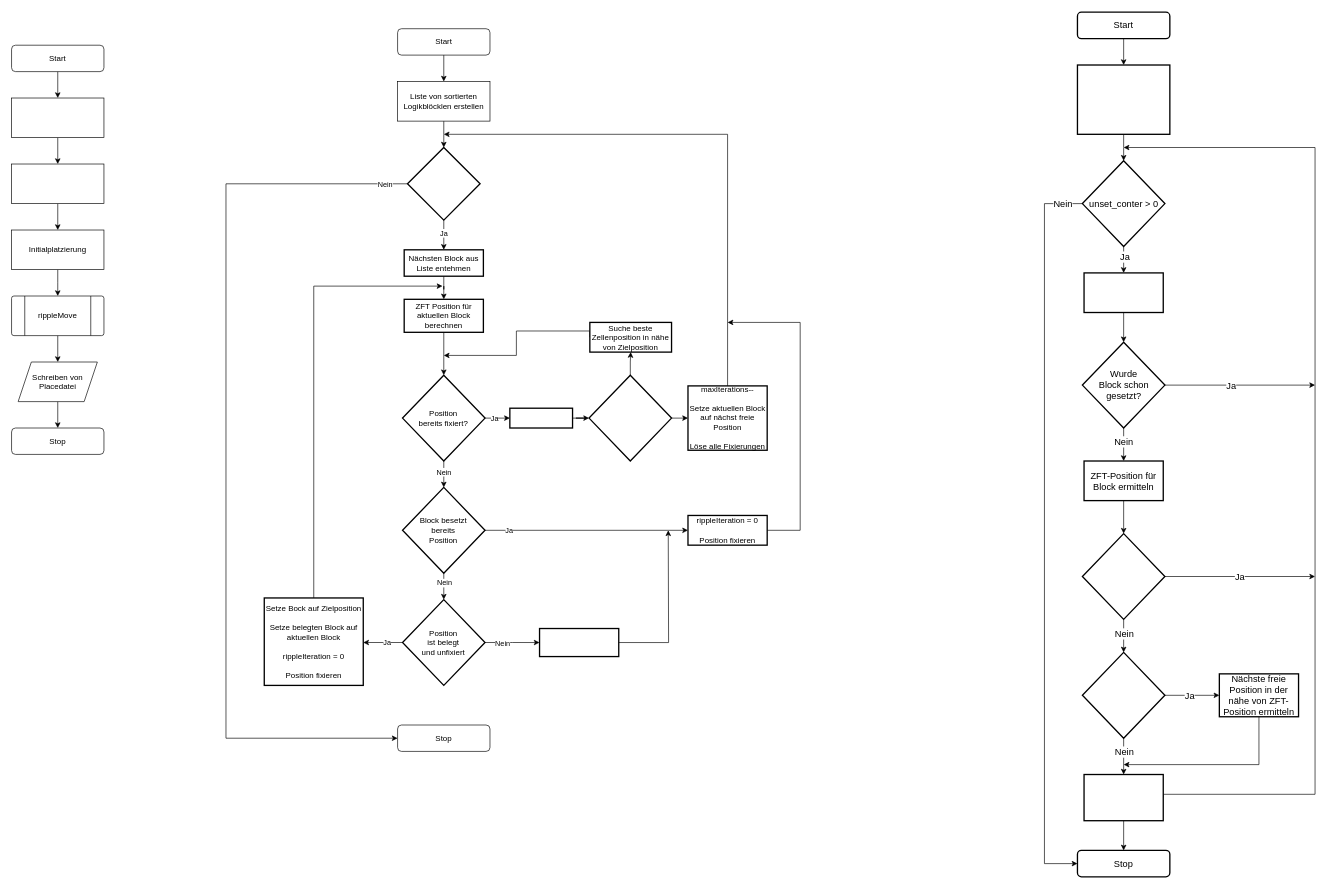
This 1332x888 diagram has some shape labels left out. Each missing label, with the centre of its shape:
Block auf Zielposition setzen unset_counter--: [1123,797]
Einlesen der Netzliste und der fixierten Pads: [57,117]
Erstellen des Graphens: [57,183]
Liste von sortierten Logikblöcken erstellen unset_counter = Listenlänge: [1123,99]
maxIterations >0?: [443,183]
Nächsten Block aus Liste entnehmen: [1123,292]
rippleIteration >= maxRipple: [630,417]
rippleIteration++: [541,417]
Setze Block auf Zielosition: [579,642]
ZFT-Position == Init- Position: [1123,576]
ZFT-Position ist belegt: [1123,695]
